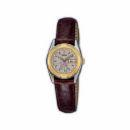watch: (46, 38, 85, 91)
